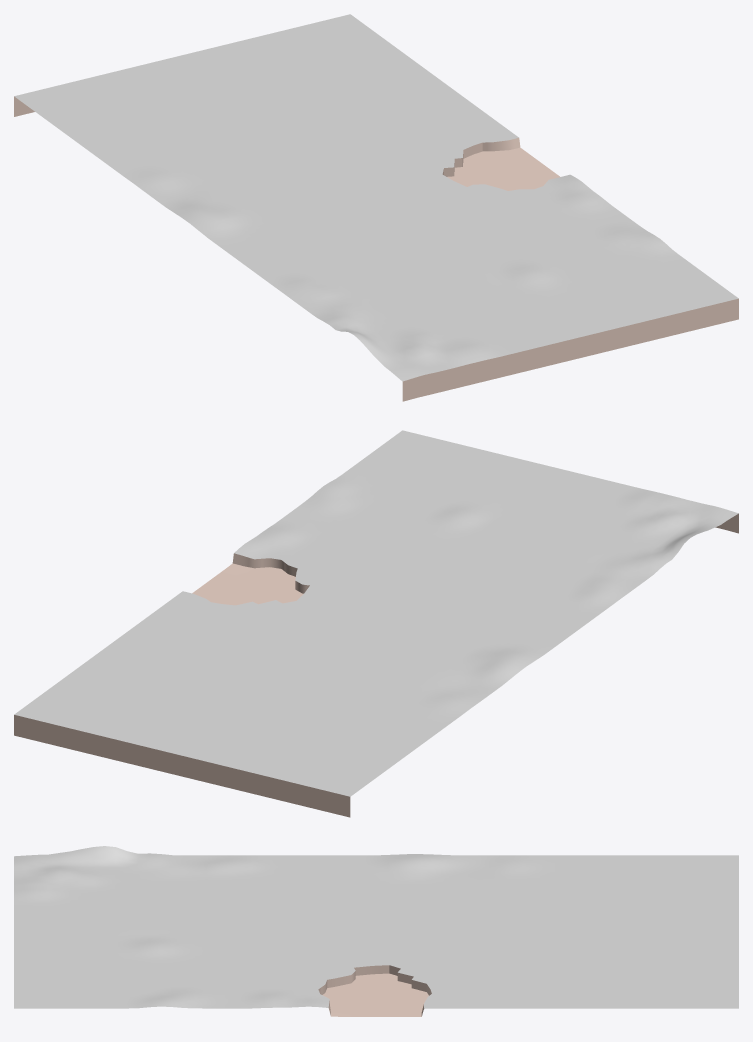
Rendered from baseTerrain.fbx.
The picture shows the model from 3 angles, top to bottom: view 1: azimuth 30°, elevation 25°; view 2: azimuth 150°, elevation 25°; view 3: azimuth 270°, elevation 25°; orthographic projection. The views are drawn at different scales.
Parts seen in each view (by area): view 1: baseTerrain; view 2: baseTerrain; view 3: baseTerrain.
Part boxes in pixels (x1=…): baseTerrain: x1=14, y1=14, x2=738, y2=401; baseTerrain: x1=14, y1=430, x2=738, y2=817; baseTerrain: x1=14, y1=846, x2=738, y2=1016.
Bounding box in the file's own units: 13663 × 1209 × 27326.
